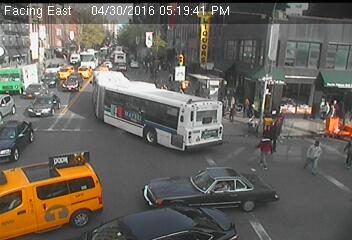neg: (87, 93, 116, 131), (134, 111, 158, 143), (272, 198, 294, 227), (20, 98, 38, 122), (104, 29, 122, 53), (285, 50, 303, 73), (164, 178, 181, 201), (126, 197, 142, 218), (82, 36, 97, 56), (57, 50, 71, 68), (89, 169, 100, 183), (213, 180, 223, 194), (102, 156, 112, 169), (222, 215, 227, 221)
pos: (216, 88, 245, 127), (249, 132, 278, 169), (301, 138, 325, 171), (313, 95, 337, 127), (265, 119, 286, 146), (245, 115, 263, 139), (162, 68, 179, 90), (153, 60, 164, 75)
